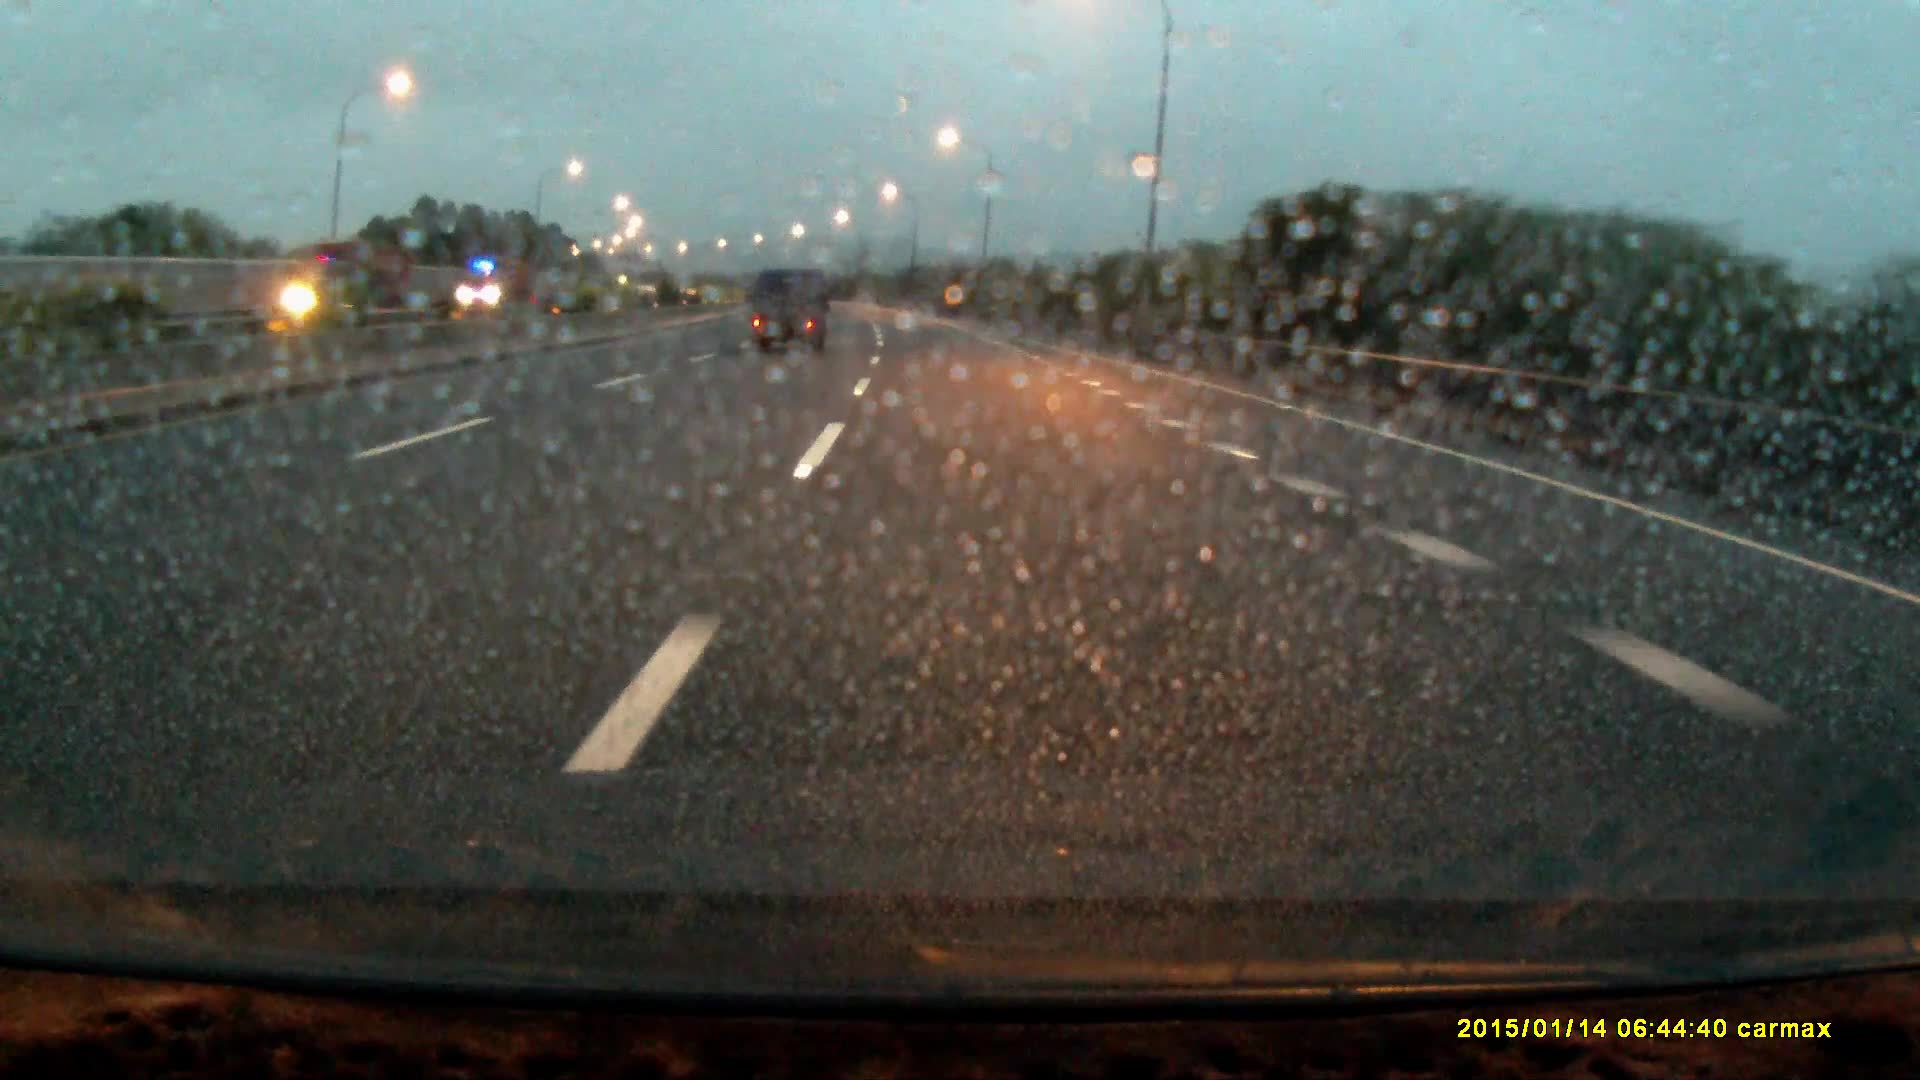vehicle: (276, 247, 415, 328), (746, 270, 825, 360), (455, 257, 534, 316)
